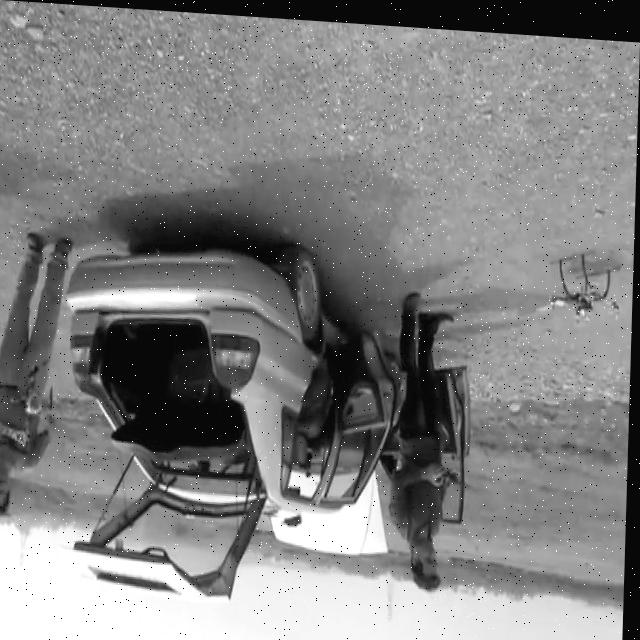drone: (540, 245, 624, 317)
